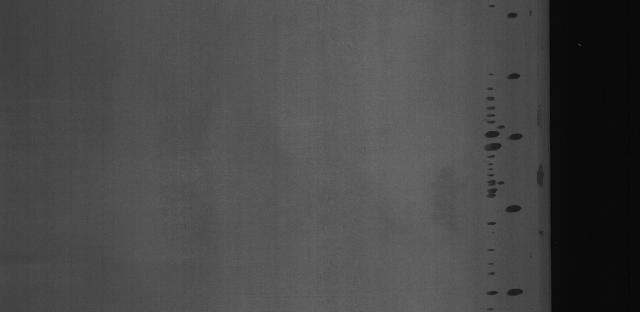oil_spot: (477, 65, 528, 234), (484, 269, 532, 303), (497, 6, 522, 25)
